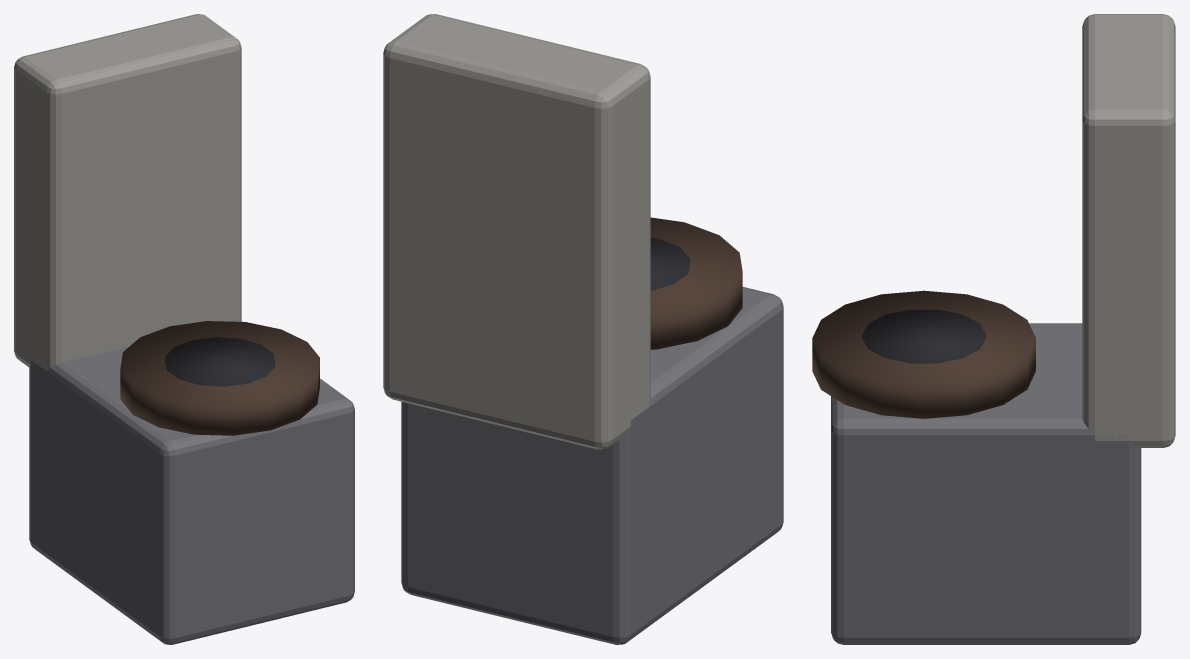
Rendered from bath_fixture_garderobe.glb.
3 renders of one model, left to right at view 1: azimuth 30°, elevation 25°; view 2: azimuth 150°, elevation 25°; view 3: azimuth 270°, elevation 25°, orthographic. The views are drawn at different scales.
Parts seen in each view (by area): view 1: GD_bath_fixture_garderobe__m3, GD_bath_fixture_garderobe__m0, GD_bath_fixture_garderobe__m1, GD_bath_fixture_garderobe__m2; view 2: GD_bath_fixture_garderobe__m3, GD_bath_fixture_garderobe__m0, GD_bath_fixture_garderobe__m1, GD_bath_fixture_garderobe__m2; view 3: GD_bath_fixture_garderobe__m0, GD_bath_fixture_garderobe__m3, GD_bath_fixture_garderobe__m1, GD_bath_fixture_garderobe__m2.
Part boxes in pixels (x1,y1,x2,y2): GD_bath_fixture_garderobe__m3: (14, 14, 241, 370); GD_bath_fixture_garderobe__m0: (29, 319, 354, 644); GD_bath_fixture_garderobe__m1: (120, 321, 319, 435); GD_bath_fixture_garderobe__m2: (165, 337, 275, 386); GD_bath_fixture_garderobe__m3: (383, 14, 650, 449); GD_bath_fixture_garderobe__m0: (401, 287, 783, 644); GD_bath_fixture_garderobe__m1: (650, 217, 742, 349); GD_bath_fixture_garderobe__m2: (650, 237, 690, 290); GD_bath_fixture_garderobe__m0: (831, 323, 1141, 644); GD_bath_fixture_garderobe__m3: (1082, 14, 1175, 447); GD_bath_fixture_garderobe__m1: (812, 290, 1035, 418); GD_bath_fixture_garderobe__m2: (862, 309, 986, 363).
Size of the model in its own units: 0.4 by 0.95 by 0.585.
